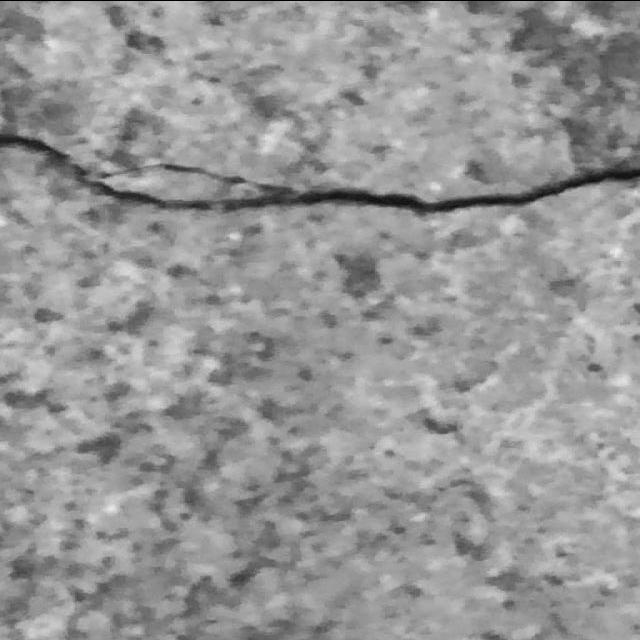SurfaceCrack: (0, 73, 638, 265)
